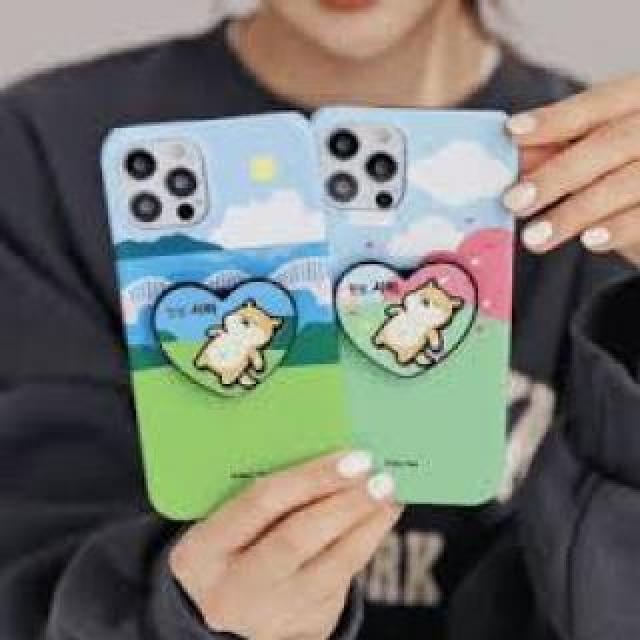smart phone: (78, 105, 342, 510), (314, 98, 534, 510), (337, 80, 340, 85)
